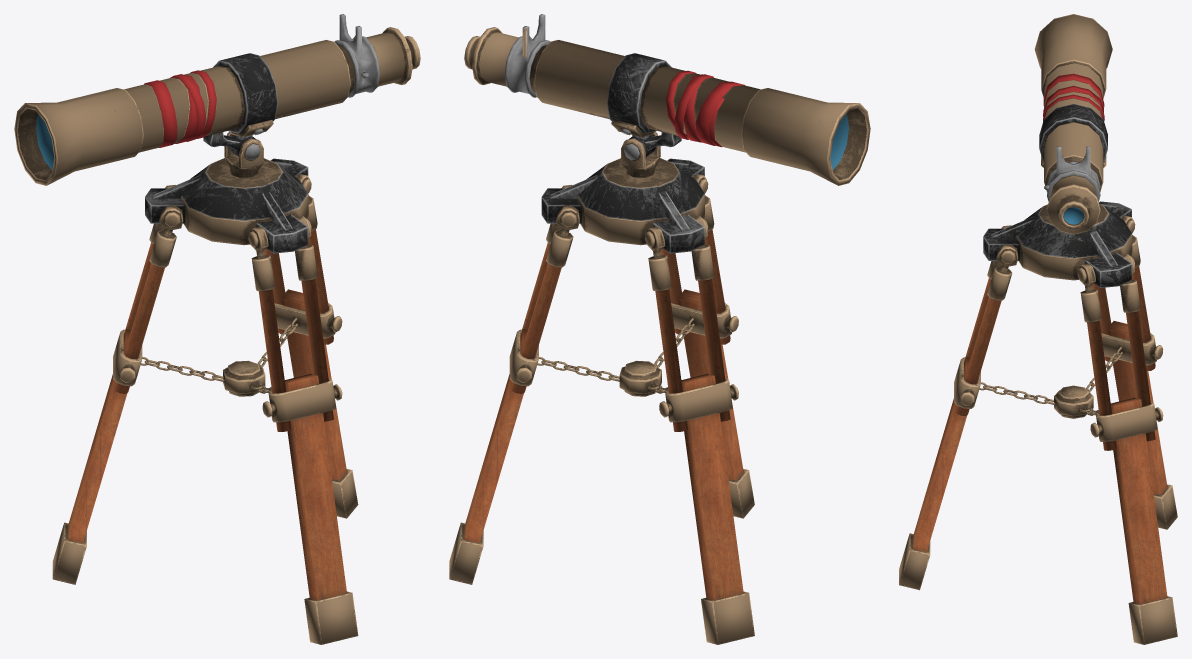
Rendered from low-poly_telescope.glb.
3 views of the same model, side by side, from view 1: azimuth 30°, elevation 25°; view 2: azimuth 150°, elevation 25°; view 3: azimuth 270°, elevation 25° (orthographic). The views are drawn at different scales.
Parts seen in each view (by area): view 1: Cylinder, Cylinder.018, Cube.001, Cube.002, Cylinder.008, Cylinder.011, Cylinder.021, Cylinder.001, Cylinder.009, Cylinder.012, Cylinder.002, Cylinder.010 (+2 smaller); view 2: Cylinder, Cube.002, Cylinder.018, Cylinder.011, Cube.001, Cylinder.021, Cylinder.012, Cylinder.001, Cylinder.002, Cylinder.008, Cylinder.010, Cylinder.009 (+1 smaller); view 3: Cube.002, Cylinder, Cylinder.018, Cylinder.011, Cube.001, Cylinder.008, Cylinder.012, Cylinder.001, Cylinder.021, Cylinder.002, Cylinder.010, Cylinder.009 (+1 smaller).
Part boxes in pixels (x1,y1,x2,y2): Cylinder: (14, 27, 420, 185); Cylinder.018: (145, 158, 308, 253); Cube.001: (284, 374, 358, 644); Cube.002: (52, 289, 358, 584); Cylinder.008: (250, 216, 333, 431); Cylinder.011: (114, 174, 333, 393); Cylinder.021: (144, 70, 216, 147); Cylinder.001: (213, 53, 278, 133); Cylinder.009: (268, 379, 336, 422); Cylinder.012: (113, 303, 335, 386); Cylinder.002: (334, 14, 380, 97); Cylinder.010: (223, 360, 265, 396); Cylinder: (464, 27, 870, 185); Cube.002: (449, 329, 754, 644); Cylinder.018: (541, 158, 704, 253); Cylinder.011: (510, 184, 730, 431); Cube.001: (677, 289, 754, 518); Cylinder.021: (666, 70, 744, 147); Cylinder.012: (509, 329, 732, 422); Cylinder.001: (606, 53, 671, 133); Cylinder.002: (504, 14, 550, 97); Cylinder.008: (661, 174, 730, 344); Cylinder.010: (619, 360, 661, 396); Cylinder.009: (671, 303, 731, 338); Cube.002: (1107, 321, 1177, 644); Cylinder: (1034, 14, 1112, 234); Cylinder.018: (983, 201, 1132, 287); Cylinder.011: (1079, 215, 1155, 450); Cube.001: (899, 357, 970, 590); Cylinder.008: (955, 225, 1018, 415); Cylinder.012: (1096, 333, 1157, 441); Cylinder.001: (1039, 104, 1107, 163); Cylinder.021: (1043, 73, 1104, 121); Cylinder.002: (1047, 146, 1100, 201); Cylinder.010: (1054, 385, 1093, 418); Cylinder.009: (954, 357, 980, 408).
Size of the model in its own units: 2.1 by 2.82 by 1.48.
Materials: 1 (1 with a texture image).
